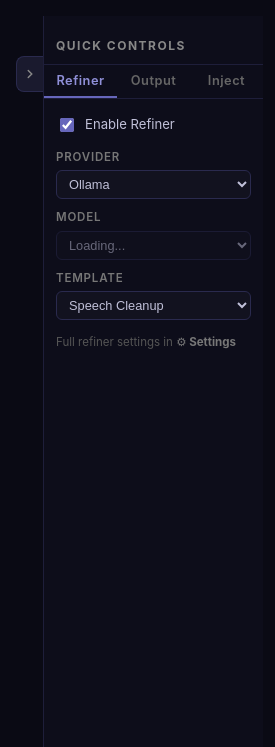
Test: QuickControlsSidebar › shows target window input when type to keyboard is enabled
Click the tab "Output" at point(154, 82), box left=117, top=65, right=190, bottom=98
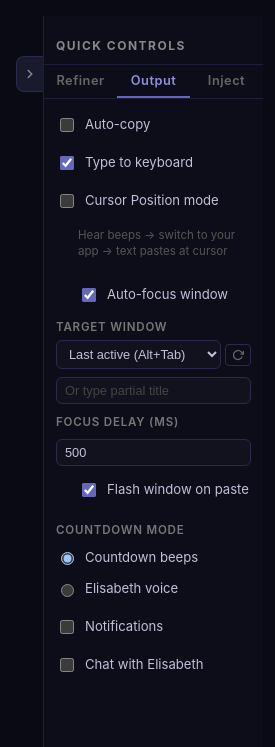
Check: the field with placeholder "Or type partial title" is shown, box left=56, top=377, right=251, bottom=404
